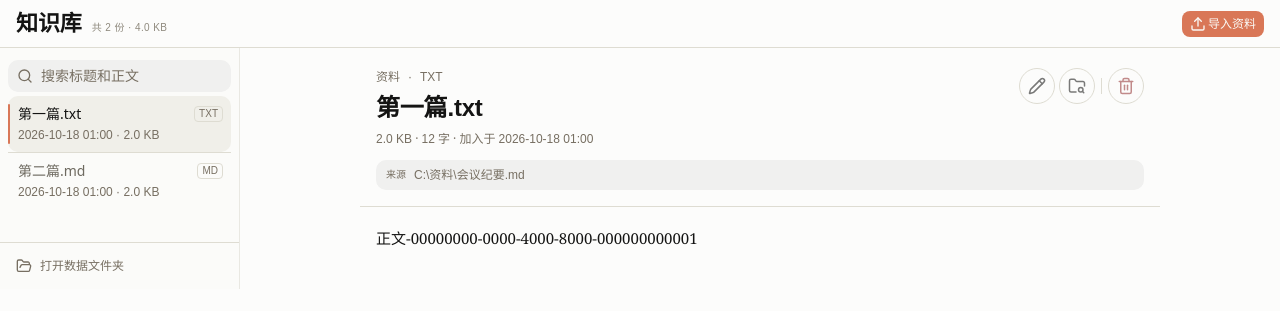
知识库：列表 / 选中 / 搜索 › 点列表项切换详情：读对应 id 的正文，元信息显示来源路径与大小
#  默认选中第一篇
Click the button with test id "knowledge-item" at coordinates (120, 181), box [8,153,231,209]
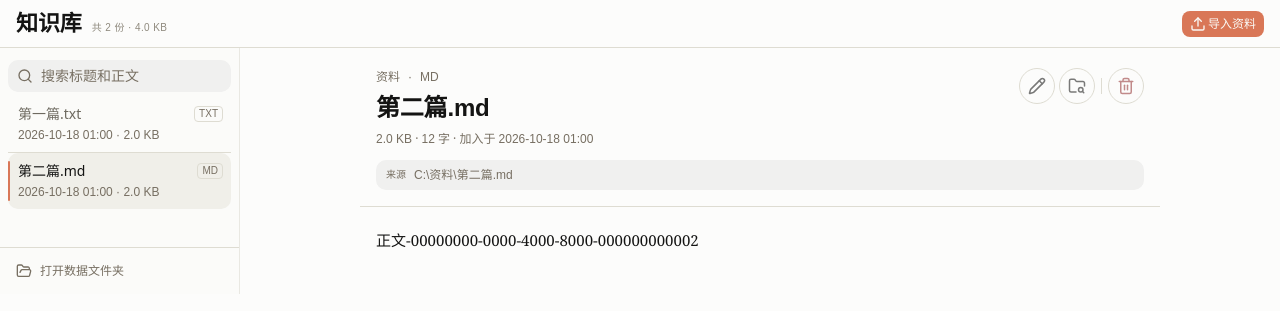
expect the heading with test id "knowledge-detail-title" reads "第二篇.md": met, box [376,94,490,121]
expect the element with test id "knowledge-source-path" shows "C:\\资料\\第二篇.md": met, box [414,168,513,182]
